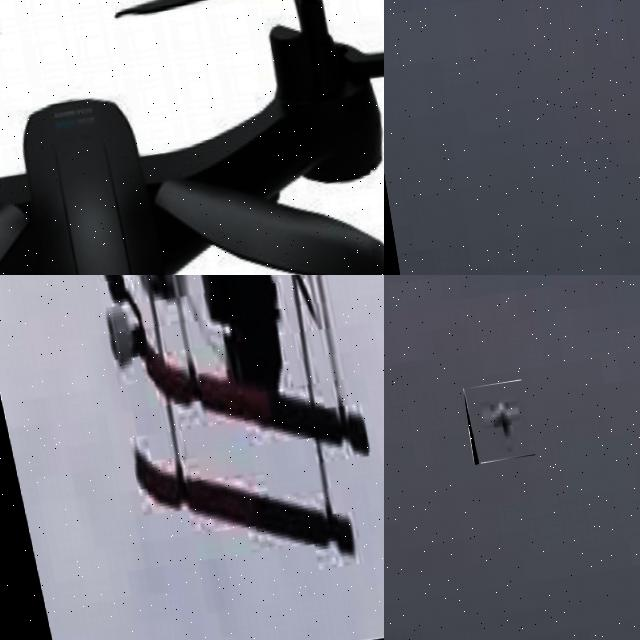0: (0, 275, 384, 640), (464, 380, 536, 464)
drone: (0, 0, 384, 275)
